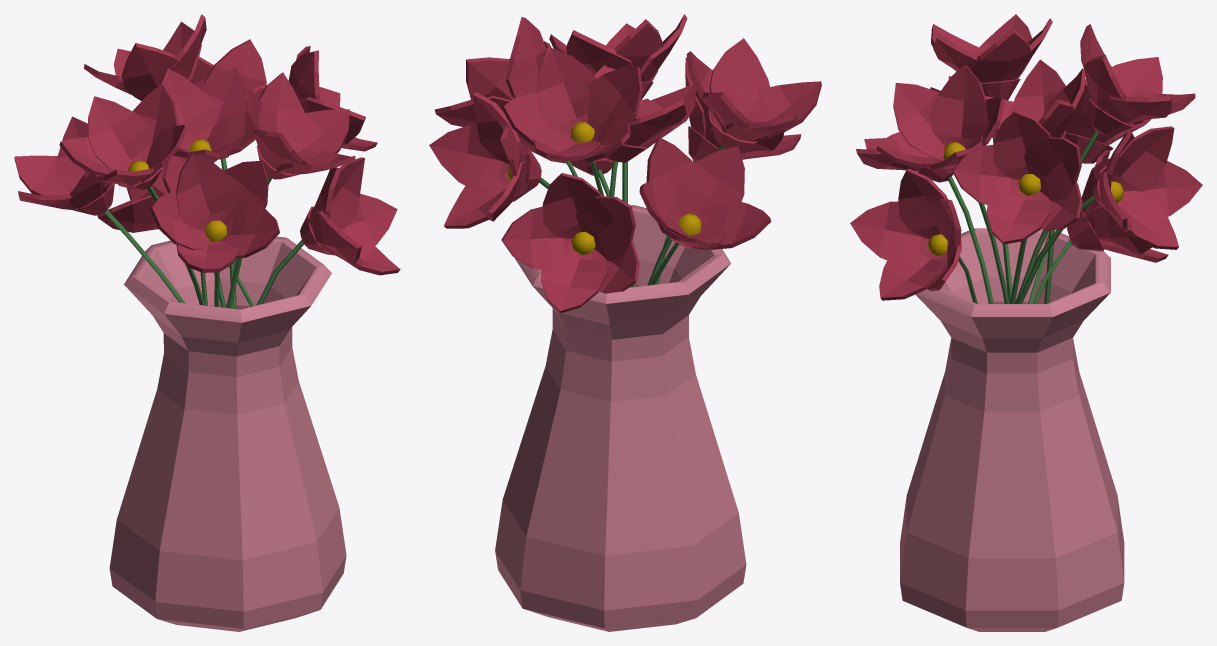
The model's file is mod_flower_vase.fbx.
3 renders of one model, left to right at view 1: azimuth 30°, elevation 25°; view 2: azimuth 150°, elevation 25°; view 3: azimuth 270°, elevation 25°, orthographic. The views are drawn at different scales.
Visible parts, largest first — view 1: mod_vase, mod_flowers; view 2: mod_vase, mod_flowers; view 3: mod_vase, mod_flowers.
Part boxes in pixels (x1=…): mod_vase: x1=109, y1=236, x2=346, y2=631; mod_flowers: x1=14, y1=14, x2=400, y2=308; mod_vase: x1=495, y1=205, x2=746, y2=631; mod_flowers: x1=429, y1=14, x2=821, y2=313; mod_vase: x1=900, y1=228, x2=1124, y2=631; mod_flowers: x1=850, y1=14, x2=1202, y2=303.
Bounding box in the file's own units: 26.66 × 44.17 × 24.96.
